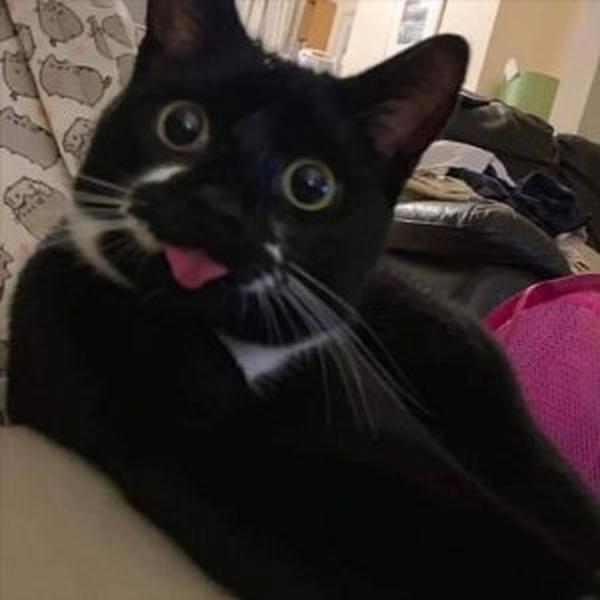michi: (14, 1, 593, 596)
